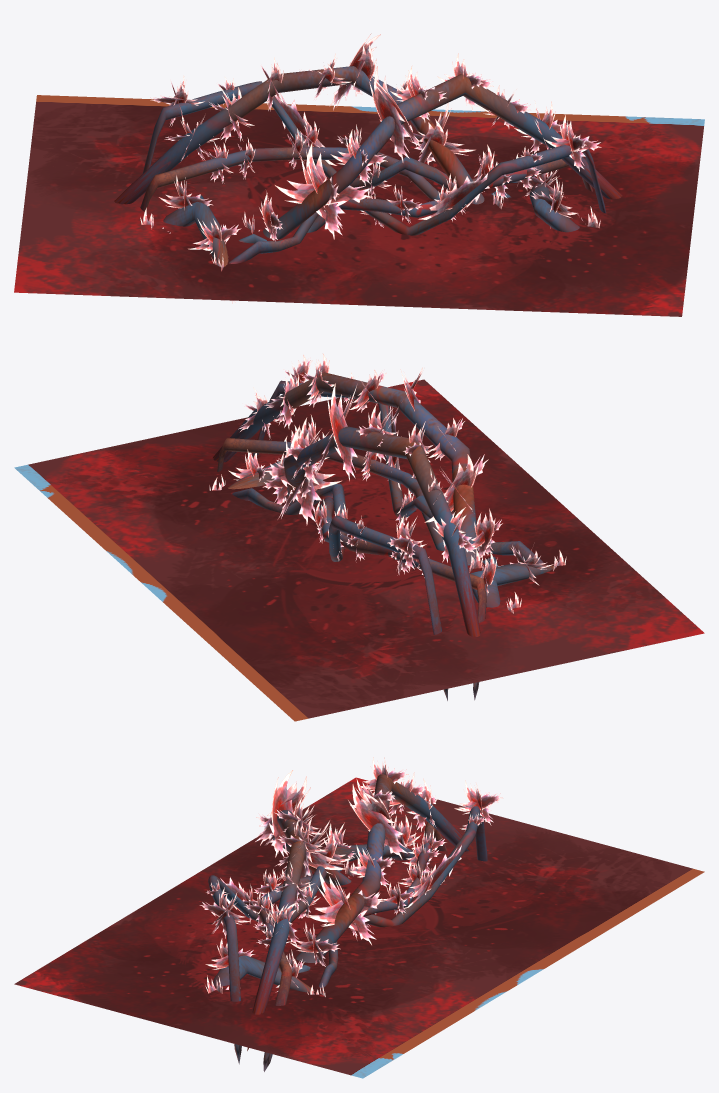
File: M_RoncesEtTerre.FBX
The picture shows the model from 3 angles, top to bottom: view 1: azimuth 30°, elevation 25°; view 2: azimuth 150°, elevation 25°; view 3: azimuth 270°, elevation 25°; orthographic projection. The views are drawn at different scales.
Parts seen in each view (by area): view 1: Line011; view 2: Line011; view 3: Line011.
Boxes of the visible parts, left/top/right/bottom form: Line011: left=14, top=33, right=704, bottom=316; Line011: left=14, top=354, right=704, bottom=721; Line011: left=14, top=757, right=704, bottom=1078.
Bounding box in the file's own units: 329 × 109 × 318.
